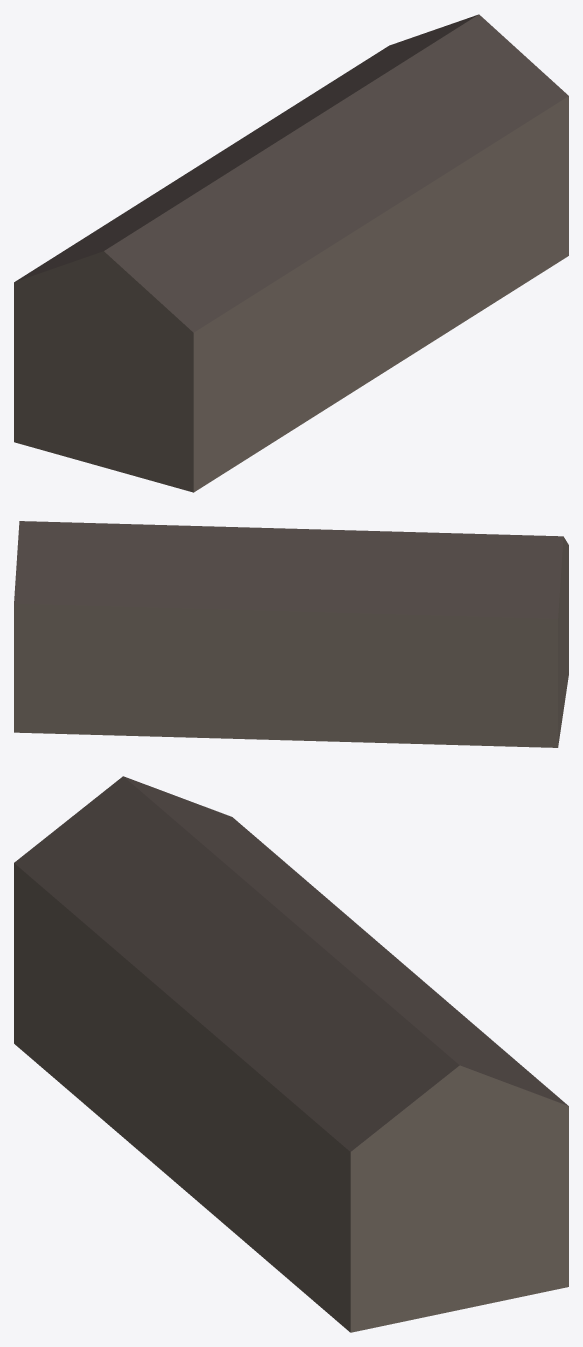
The picture shows the model from 3 angles, top to bottom: view 1: azimuth 30°, elevation 25°; view 2: azimuth 150°, elevation 25°; view 3: azimuth 270°, elevation 25°; orthographic projection. The views are drawn at different scales.
Parts seen in each view (by area): view 1: HP-w859086202; view 2: HP-w859086202; view 3: HP-w859086202.
Part boxes in pixels (box(x1,y1,x2,y2)): HP-w859086202: box(14, 14, 568, 492); HP-w859086202: box(14, 521, 568, 747); HP-w859086202: box(14, 776, 568, 1332).
Size of the model in its own units: 35.78 by 12.18 by 25.05.
